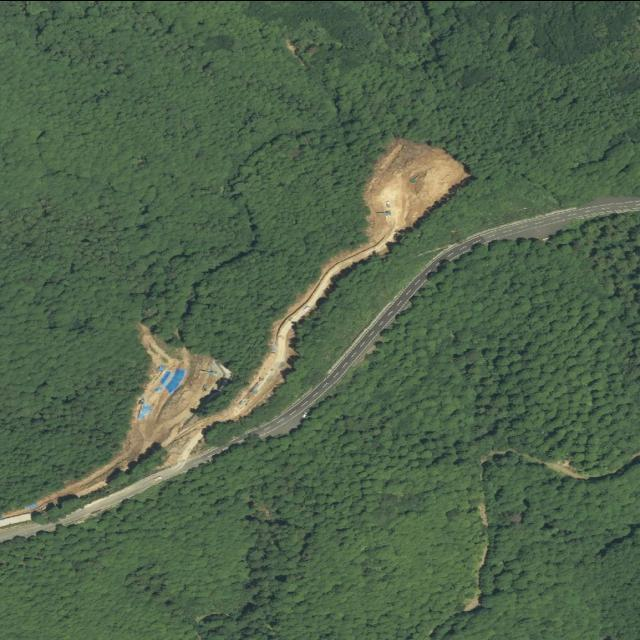landslide: (23, 140, 465, 510), (218, 138, 468, 420)
